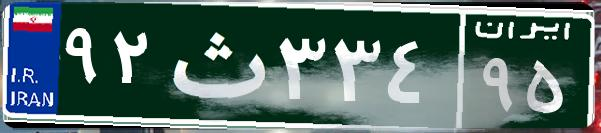2: (110, 28, 158, 105)
3: (273, 28, 330, 110), (330, 28, 385, 110)
4: (385, 28, 445, 110)
5: (525, 38, 570, 115)
9: (57, 26, 110, 107), (475, 38, 525, 113)
ث: (158, 15, 273, 115)
